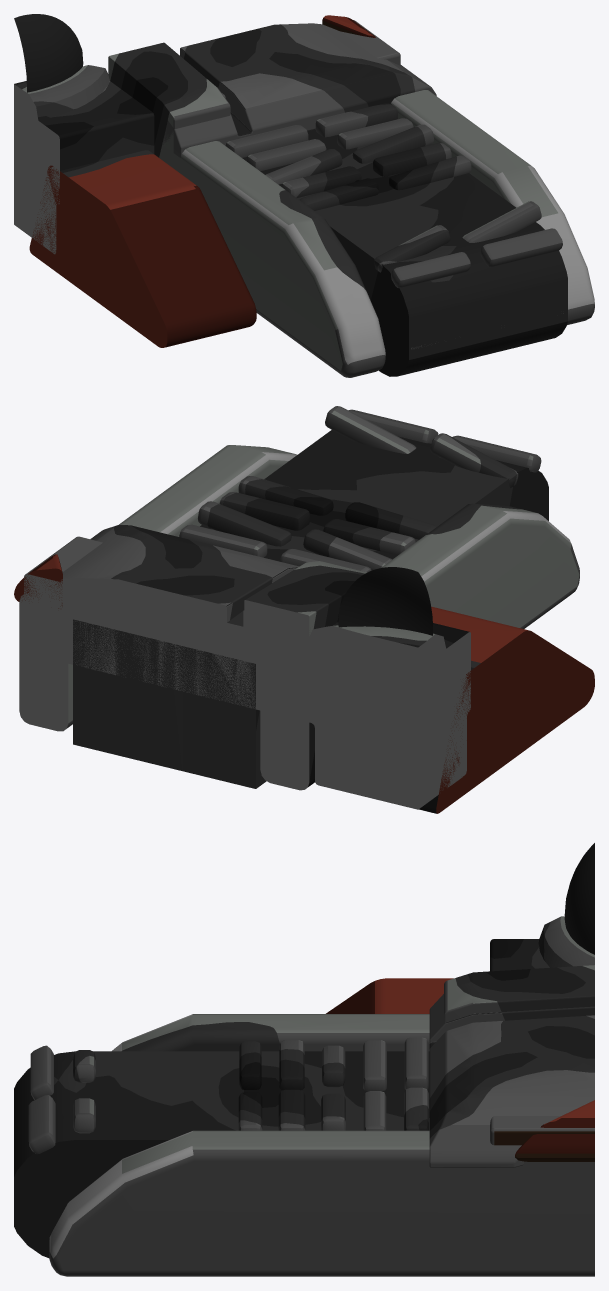
Rendered from track_carrier_br_damaged.glb.
3 views of the same model, one above another, from view 1: azimuth 30°, elevation 25°; view 2: azimuth 150°, elevation 25°; view 3: azimuth 270°, elevation 25° (orthographic). The views are drawn at different scales.
Visible parts, largest first — view 1: track_carrier_br_damaged; view 2: track_carrier_br_damaged; view 3: track_carrier_br_damaged.
Boxes of the visible parts, x1,y1,x2,y2 form: track_carrier_br_damaged: (14,14,594,377); track_carrier_br_damaged: (14,406,594,813); track_carrier_br_damaged: (14,843,594,1276).
Size of the model in its own units: 22.3 by 13.57 by 28.
